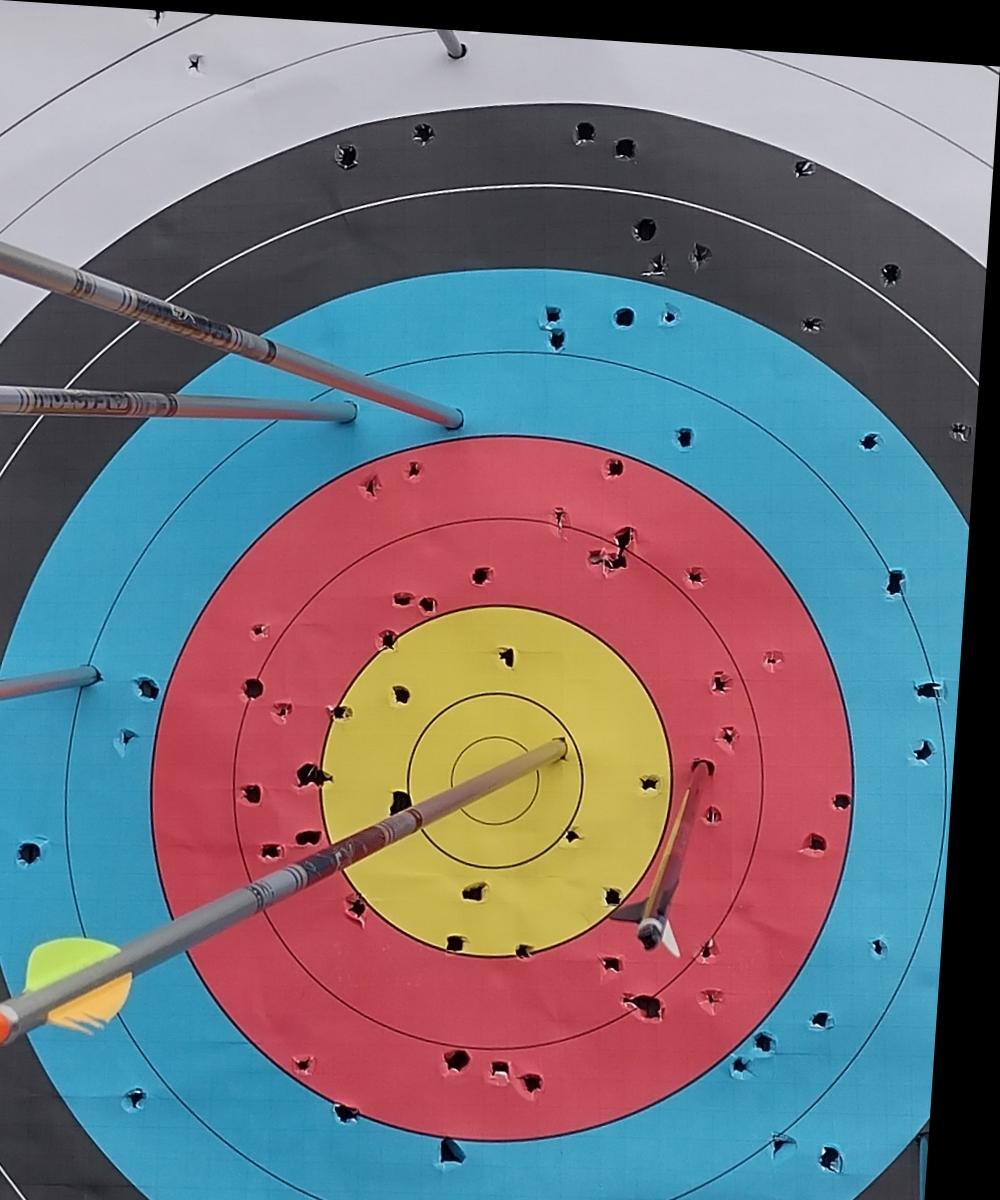1-Ring: (0, 10, 1000, 1200)
10-Ring: (413, 680, 599, 868)
2-Ring: (0, 24, 994, 1200)
3-Ring: (0, 102, 989, 1200)
4-Ring: (0, 179, 983, 1200)
5-Ring: (0, 264, 976, 1200)
6-Ring: (84, 347, 958, 1200)
7-Ring: (145, 413, 882, 1152)
8-Ring: (235, 499, 786, 1056)
9-Ring: (319, 582, 699, 967)
Arrow: (0, 655, 580, 1085), (0, 239, 469, 434), (618, 742, 722, 948), (0, 387, 360, 426)
